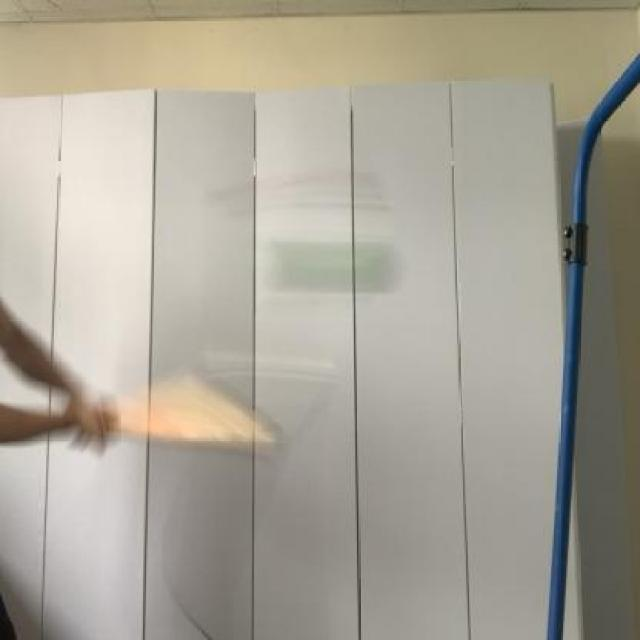baseball: (263, 222, 422, 302)
